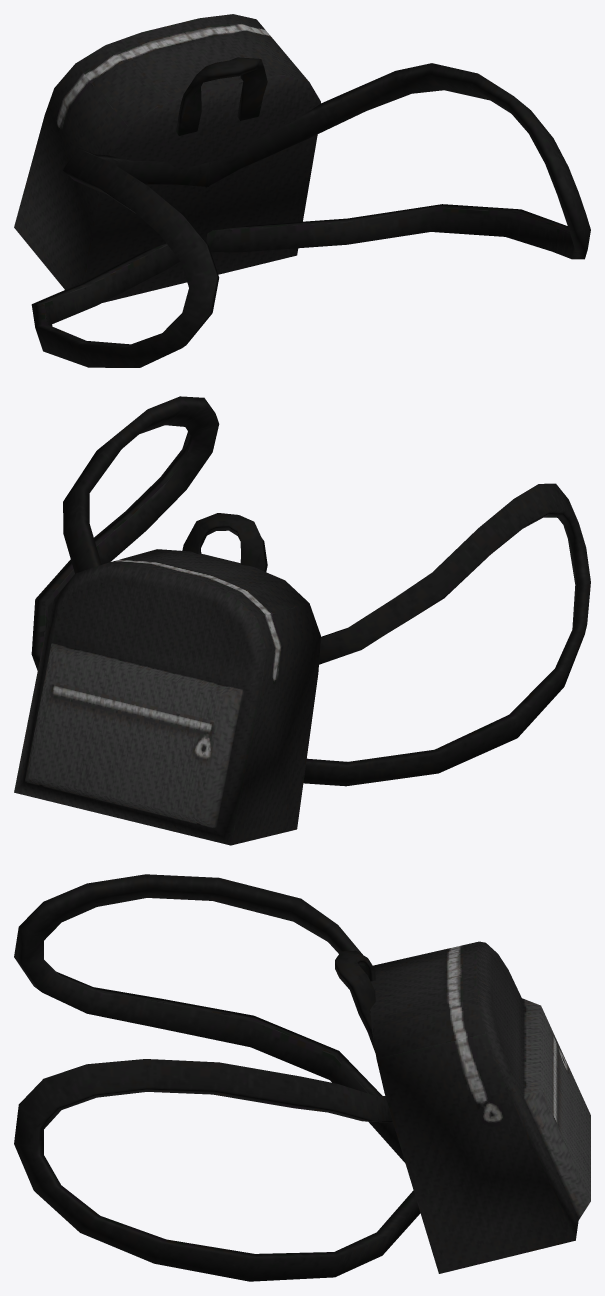
The model's file is M_backpackA_3.glb.
3 renders of one model, top to bottom at view 1: azimuth 30°, elevation 25°; view 2: azimuth 150°, elevation 25°; view 3: azimuth 270°, elevation 25°, orthographic. The views are drawn at different scales.
Parts seen in each view (by area): view 1: SM_BackpackA; view 2: SM_BackpackA; view 3: SM_BackpackA.
Part boxes in pixels (x1,y1,x2,y2): SM_BackpackA: (14,14,590,367); SM_BackpackA: (14,396,590,845); SM_BackpackA: (14,874,590,1281).
Size of the model in its own units: 0.4544 by 0.2231 by 0.4499.
1 material, 1 textured.
